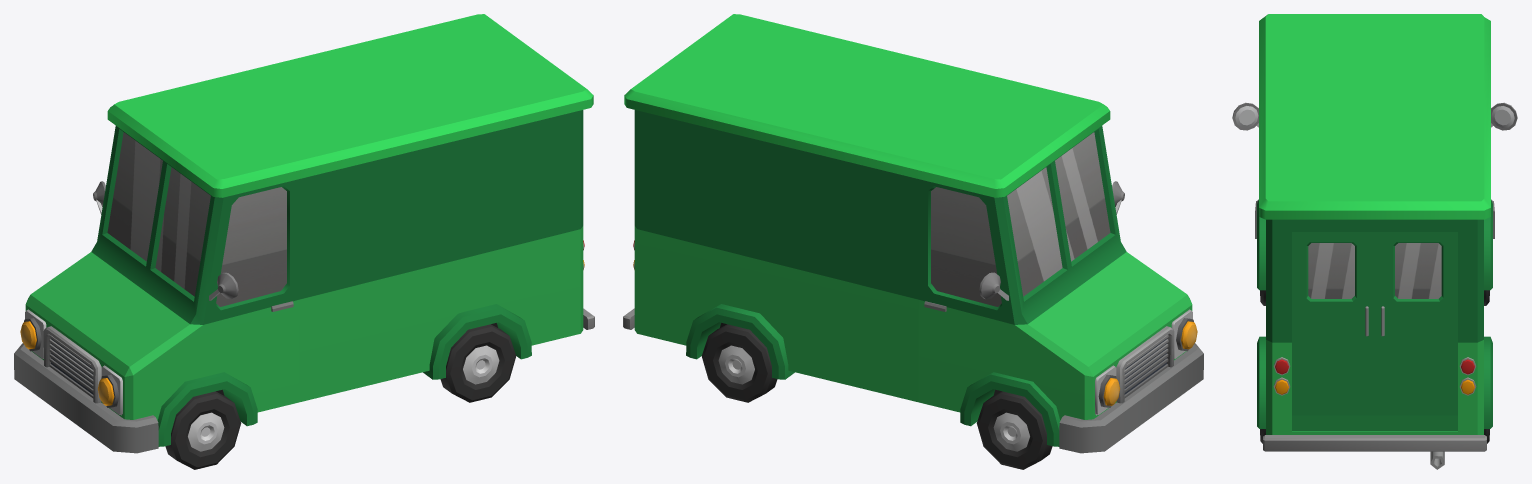
The model's file is Car_16_A.gltf.
The picture shows the model from 3 angles, left to right: view 1: azimuth 30°, elevation 25°; view 2: azimuth 150°, elevation 25°; view 3: azimuth 270°, elevation 25°; orthographic projection. The views are drawn at different scales.
Parts seen in each view (by area): view 1: Car_16_A, RL, FL; view 2: Car_16_A, RR, FR; view 3: Car_16_A.
Part boxes in pixels (box(x1,y1,x2,y2)): Car_16_A: box(14, 14, 594, 453); RL: box(440, 324, 516, 402); FL: box(165, 391, 241, 469); Car_16_A: box(623, 14, 1203, 453); RR: box(701, 324, 777, 402); FR: box(976, 391, 1052, 469); Car_16_A: box(1232, 14, 1517, 469).
Size of the model in its own units: 3.66 by 2.04 by 1.8.
Materials: 4 (4 with a texture image).
